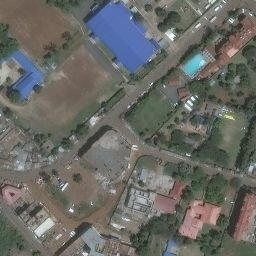tree: (170, 130, 185, 144), (216, 214, 230, 228), (235, 63, 250, 76), (189, 79, 202, 93), (7, 90, 20, 102), (238, 74, 250, 87), (60, 137, 72, 149), (168, 11, 181, 22), (163, 17, 176, 28), (76, 125, 88, 136), (227, 63, 238, 75), (2, 106, 14, 117), (154, 7, 166, 17), (181, 189, 191, 201), (229, 177, 239, 188), (157, 22, 167, 32), (224, 72, 235, 81), (192, 165, 203, 174), (190, 181, 201, 189), (72, 173, 81, 182), (32, 85, 42, 93), (174, 204, 184, 212), (207, 94, 217, 101), (144, 4, 152, 12), (166, 123, 175, 130), (236, 90, 244, 97), (62, 43, 69, 50), (173, 117, 179, 123), (180, 111, 185, 115)
